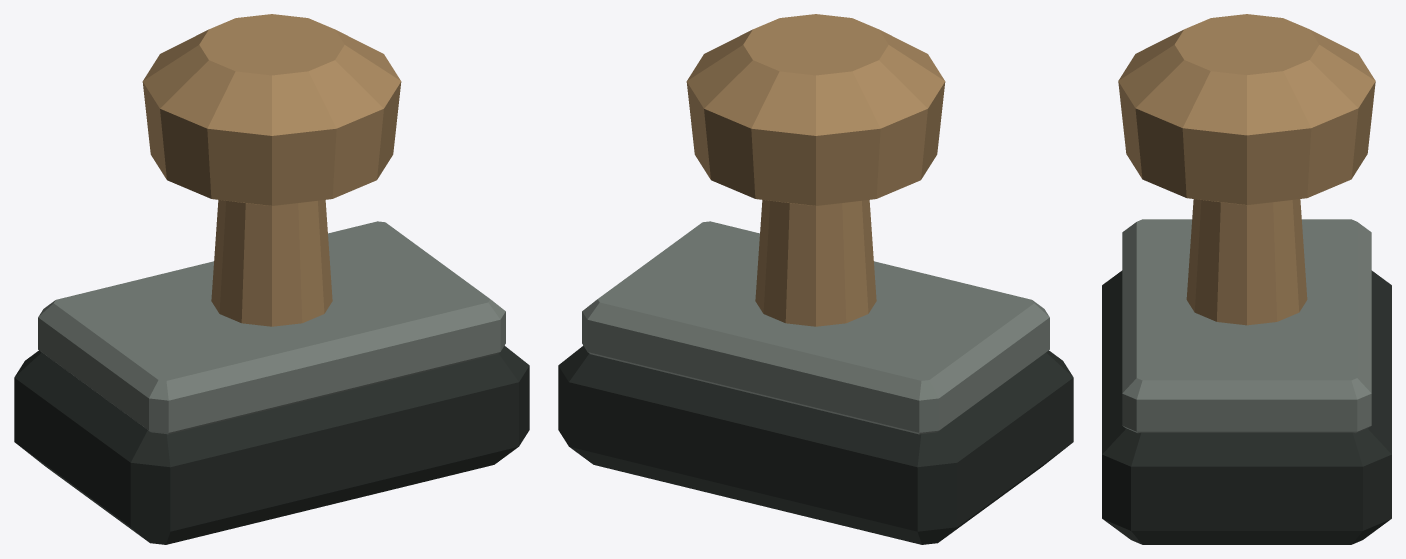
File: rubber-stamp.glb
The picture shows the model from 3 angles, left to right: view 1: azimuth 30°, elevation 25°; view 2: azimuth 150°, elevation 25°; view 3: azimuth 270°, elevation 25°; orthographic projection.
Parts seen in each view (by area): view 1: rubber-stamp; view 2: rubber-stamp; view 3: rubber-stamp.
Boxes of the visible parts, x1,y1,x2,y2 form: rubber-stamp: (14,14,529,544); rubber-stamp: (558,14,1073,544); rubber-stamp: (1102,14,1391,544).
Size of the model in its own units: 0.57 by 0.57 by 0.36.
